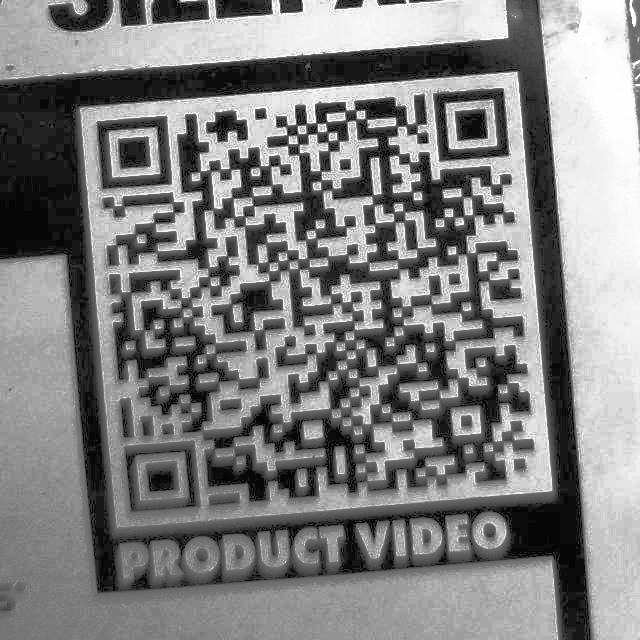qr_code: (87, 64, 558, 523)
